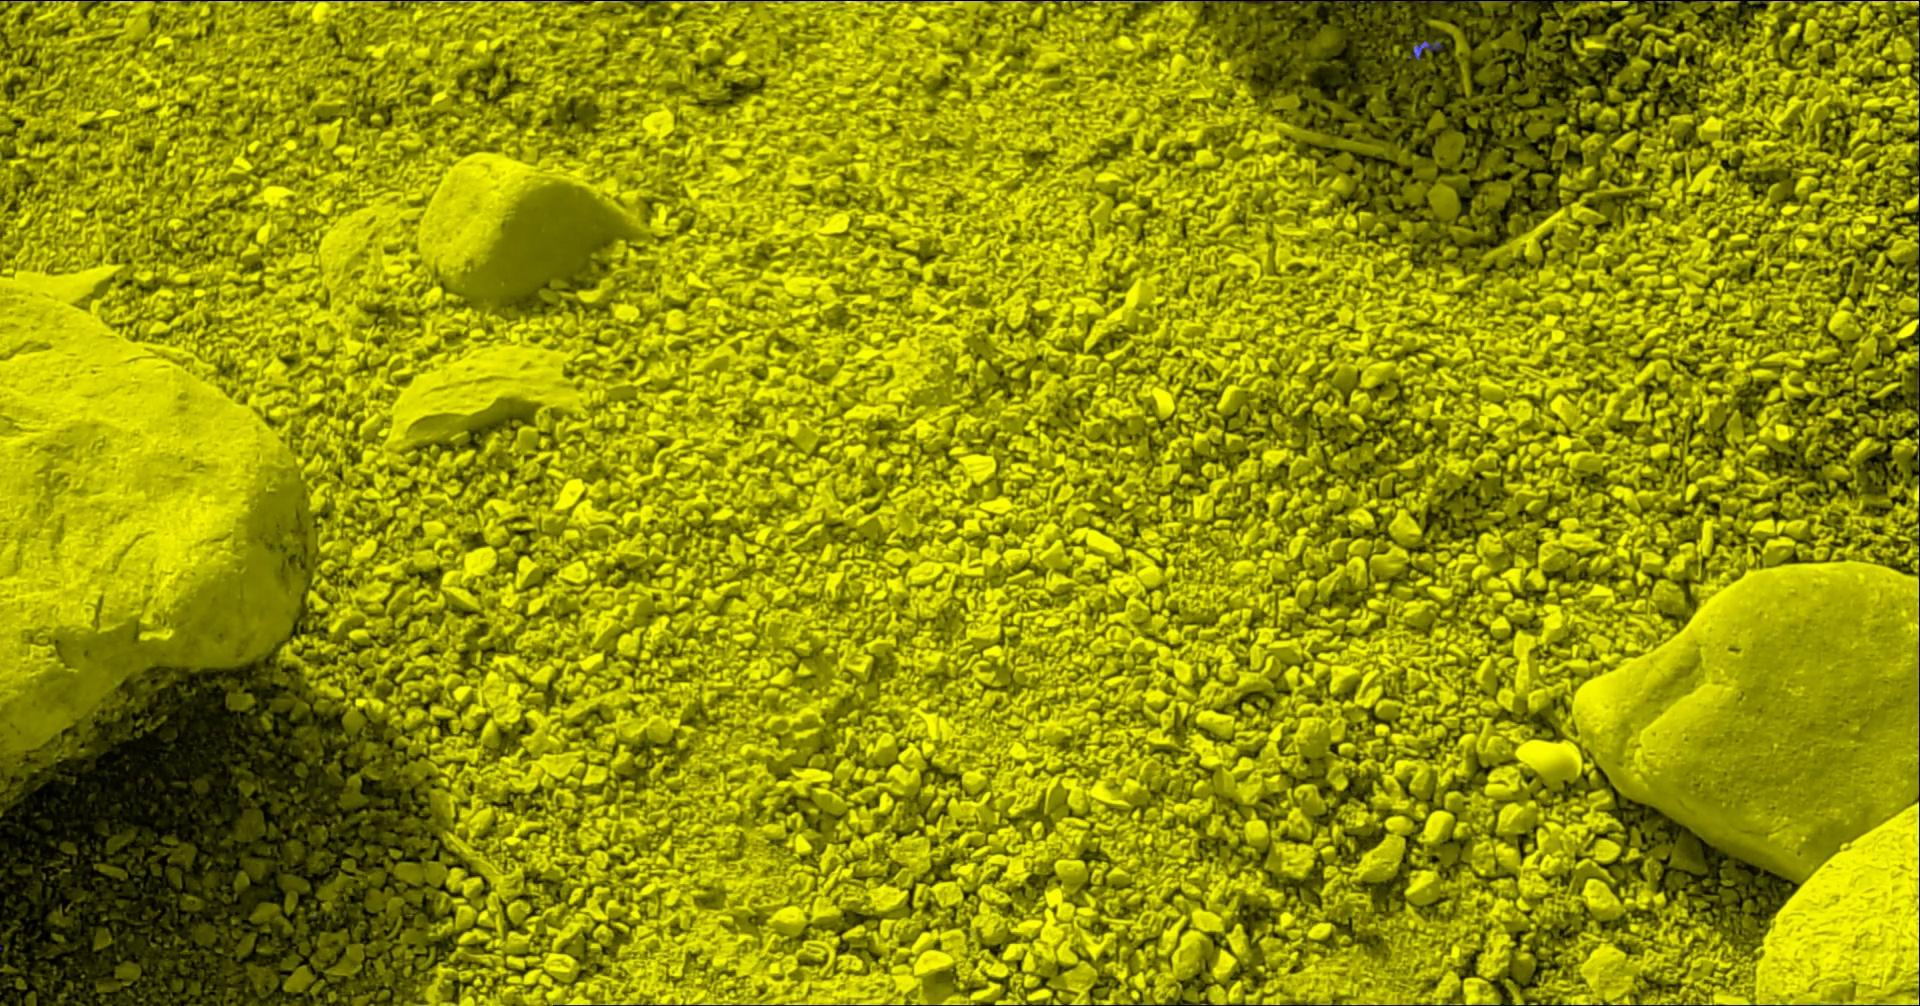ant: (1408, 39, 1444, 60)
